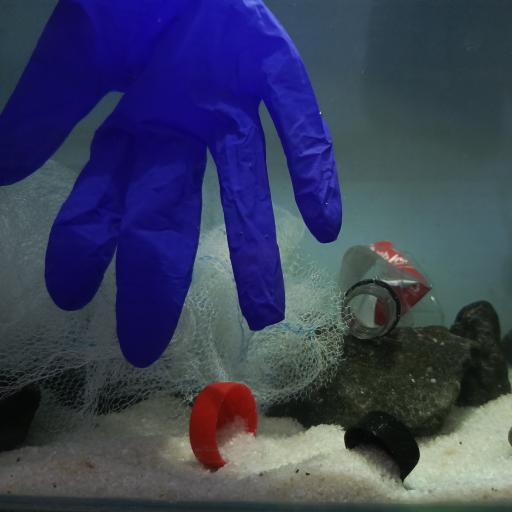bottle_cap: (190, 381, 260, 469), (344, 410, 422, 482)
glove: (2, 0, 344, 369)
plastic_bottle: (338, 240, 445, 340)
